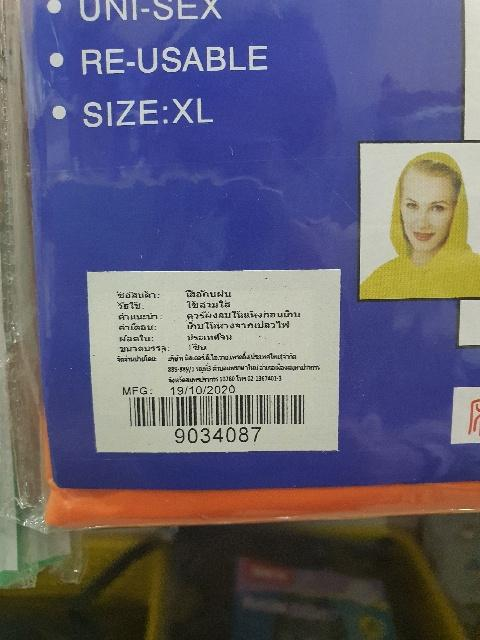Barcode: (120, 390, 317, 444)
